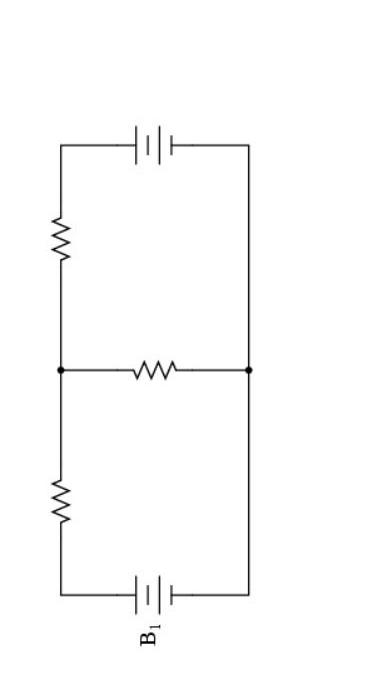resistor: (107, 337, 200, 411), (29, 457, 83, 549), (39, 190, 87, 275)
